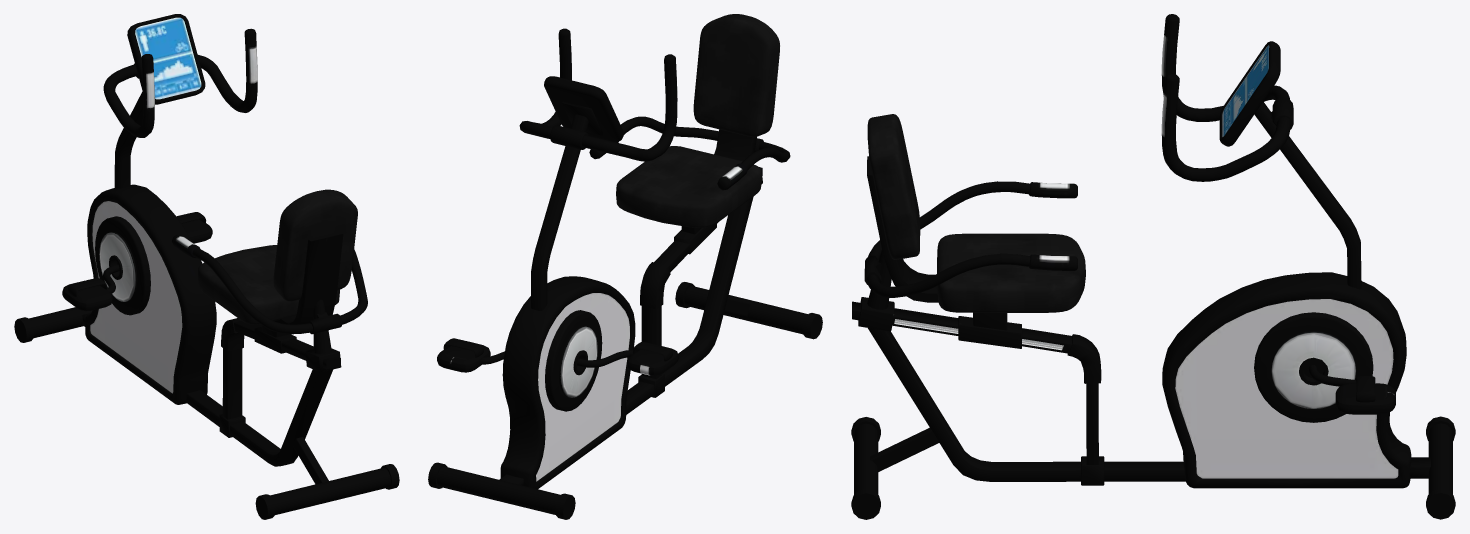
The model's file is recumbent.mid.glb.
The picture shows the model from 3 angles, left to right: view 1: azimuth 30°, elevation 25°; view 2: azimuth 150°, elevation 25°; view 3: azimuth 270°, elevation 25°; orthographic projection. The views are drawn at different scales.
Parts seen in each view (by area): view 1: Cylinder.070_Material.002_0; view 2: Cylinder.070_Material.002_0; view 3: Cylinder.070_Material.002_0.
Part boxes in pixels (left/top/right/bottom): Cylinder.070_Material.002_0: left=14, top=14, right=399, bottom=519; Cylinder.070_Material.002_0: left=428, top=14, right=822, bottom=519; Cylinder.070_Material.002_0: left=851, top=14, right=1455, bottom=519.
Size of the model in its own units: 0.6684 by 1.32 by 1.65.
1 material, 1 textured.
